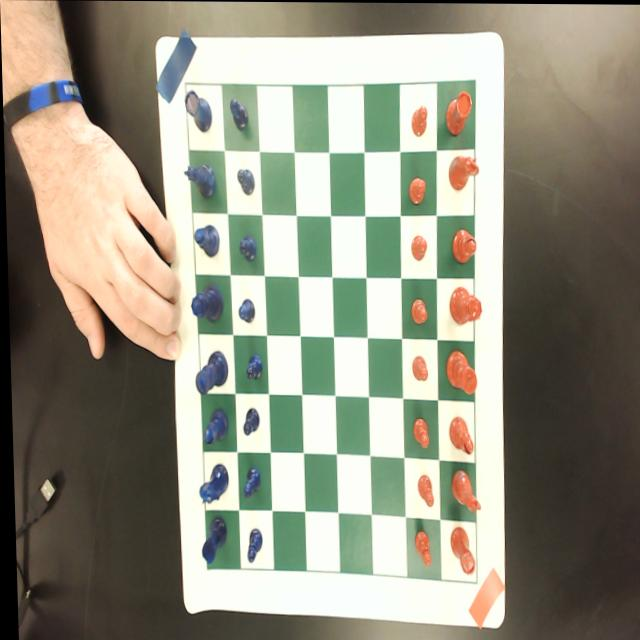B: (200, 408, 225, 446), (193, 224, 218, 258)
K: (193, 351, 227, 396)
N: (182, 160, 215, 200), (195, 464, 226, 506)
P: (229, 97, 249, 132), (240, 465, 259, 501), (243, 526, 261, 564), (236, 233, 256, 263), (235, 167, 254, 195), (235, 298, 254, 325), (239, 408, 257, 436), (243, 354, 261, 380)
Q: (189, 285, 221, 323)
R: (198, 515, 225, 565), (184, 90, 213, 135)
b: (449, 227, 476, 264), (445, 417, 471, 455)
cb: (185, 80, 475, 583)
k: (444, 349, 475, 395)
n: (447, 467, 480, 517), (447, 154, 478, 192)
p: (411, 529, 428, 567), (414, 474, 431, 508), (410, 104, 427, 138), (407, 175, 426, 205), (410, 417, 426, 448), (409, 297, 426, 325), (409, 356, 426, 382), (409, 235, 426, 261)
q: (448, 286, 480, 324)
r: (446, 526, 473, 576), (444, 90, 473, 136)
